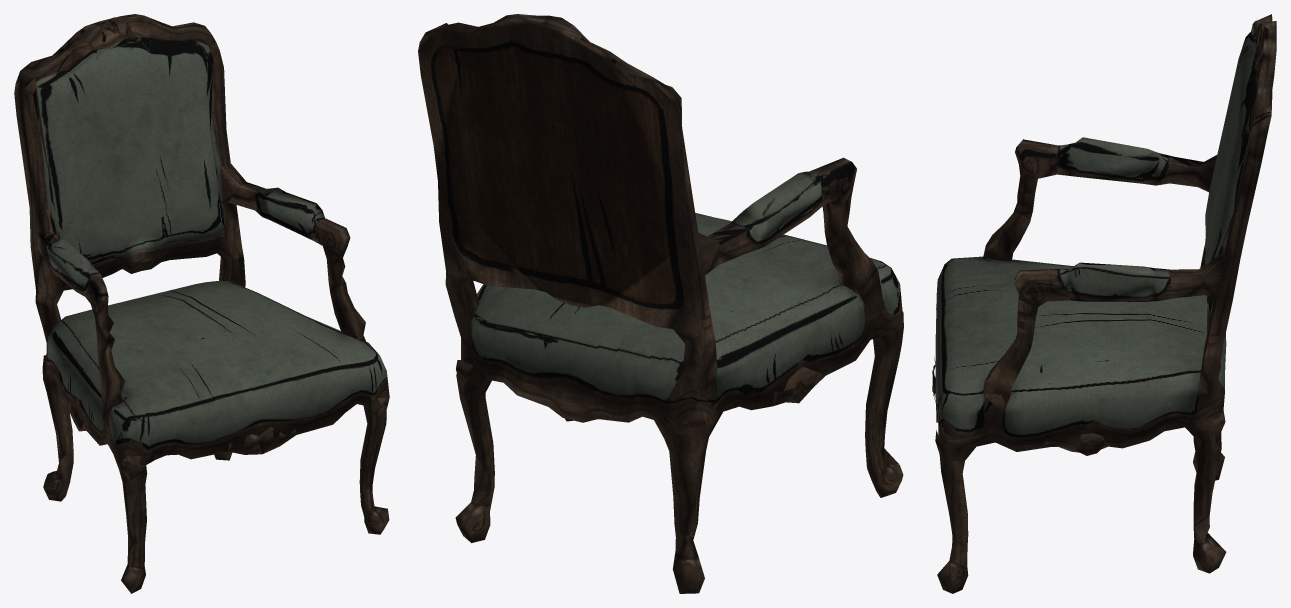
Rendered from Chair.glb.
3 renders of one model, left to right at view 1: azimuth 30°, elevation 25°; view 2: azimuth 150°, elevation 25°; view 3: azimuth 270°, elevation 25°, orthographic. The views are drawn at different scales.
Parts seen in each view (by area): view 1: huitugou_7072_05; view 2: huitugou_7072_05; view 3: huitugou_7072_05.
Boxes of the visible parts, <box> form: huitugou_7072_05: <box>14,14,389,593</box>; huitugou_7072_05: <box>418,14,903,593</box>; huitugou_7072_05: <box>932,14,1276,593</box>.
Bounding box in the file's own units: 0.6708 × 1.06 × 0.6643.
Materials: 1 (1 with a texture image).
